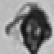correct: (6, 4, 53, 52)
